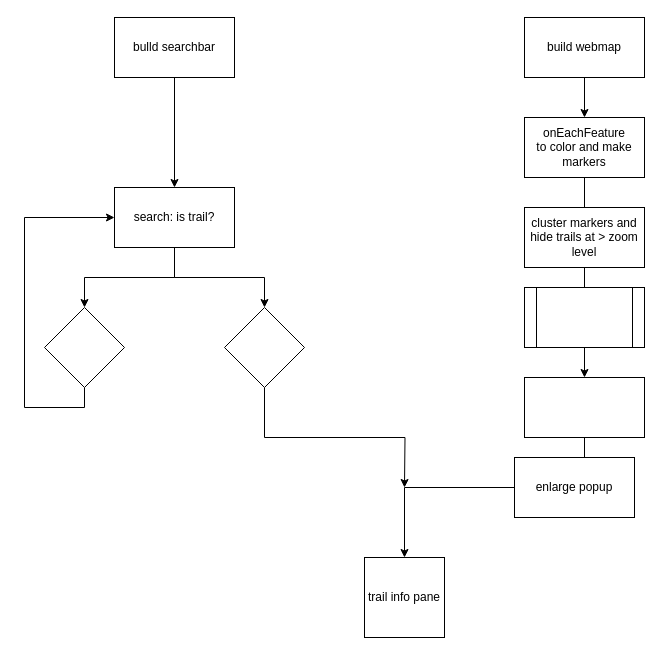
Image size: 662x655. Some labels were removed from this diagram. Here are the shapes that lost their labels. From the top down, the centre of each, then its label:
At point 84,347: "is trail == no".
At point 264,347: "is trail == yes".
At point 584,407: "onClick popup".
